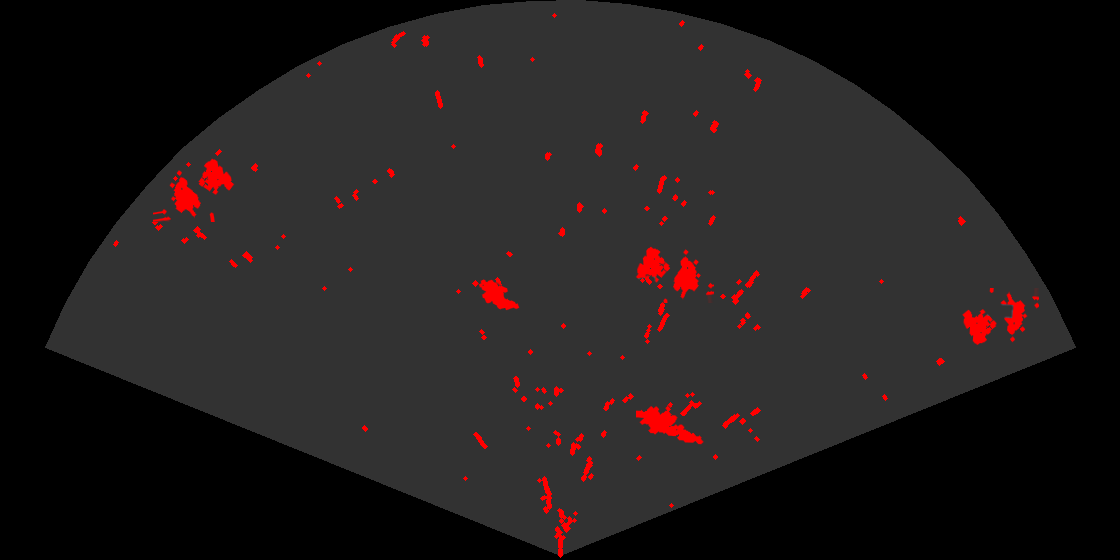AUV: (477, 278, 521, 312)
cage: (153, 157, 236, 222), (634, 245, 714, 303), (961, 288, 1039, 346)
frogman: (636, 404, 705, 446)
